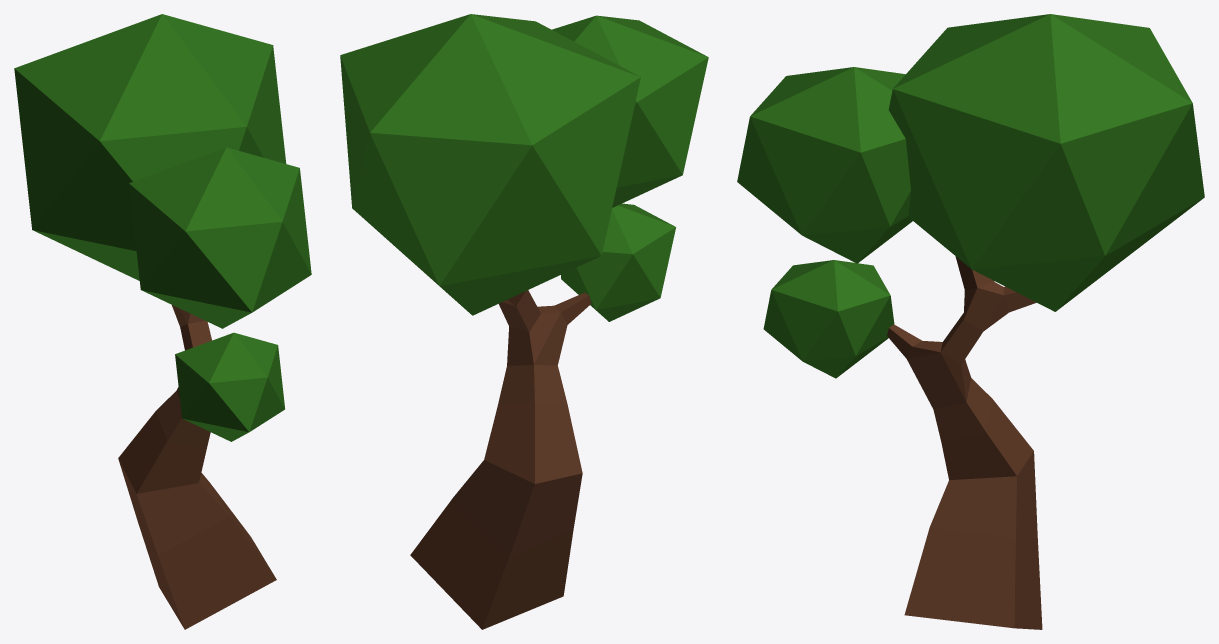
File: tree.fbx
3 renders of one model, left to right at view 1: azimuth 30°, elevation 25°; view 2: azimuth 150°, elevation 25°; view 3: azimuth 270°, elevation 25°, orthographic. The views are drawn at different scales.
Parts seen in each view (by area): view 1: Icosphere.001, Cube; view 2: Icosphere.001, Cube; view 3: Icosphere.001, Cube.
Boxes of the visible parts, x1,y1,x2,y2 form: Icosphere.001: (14, 14, 311, 441); Cube: (118, 305, 276, 629); Icosphere.001: (340, 14, 708, 321); Cube: (410, 290, 591, 629); Icosphere.001: (737, 14, 1204, 378); Cube: (887, 256, 1042, 629).
Size of the model in its own units: 417 by 940 by 643.
